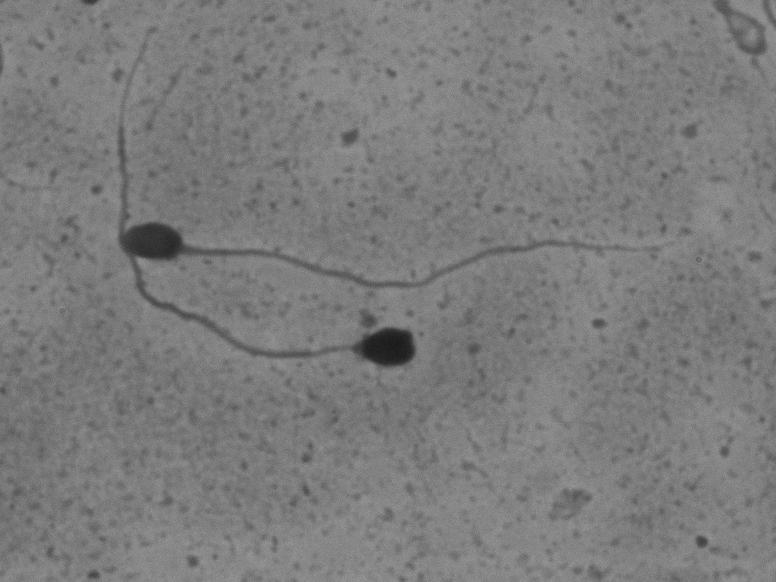Abnormal: (109, 22, 425, 383)
Normal: (123, 213, 684, 299)
